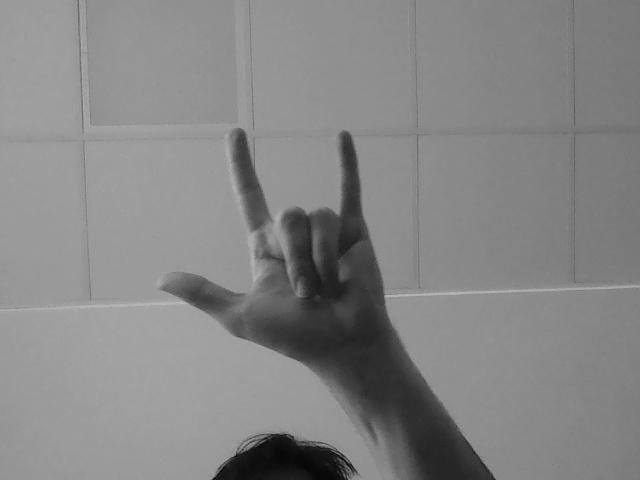I_Love_You: (141, 131, 413, 381)
